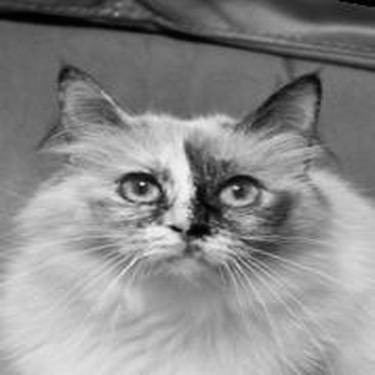cat: (11, 48, 363, 365)
